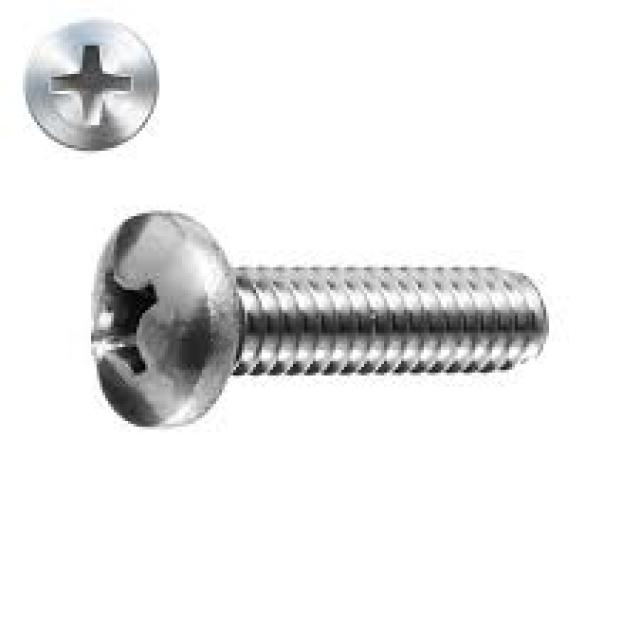Screw: (88, 210, 549, 430)
